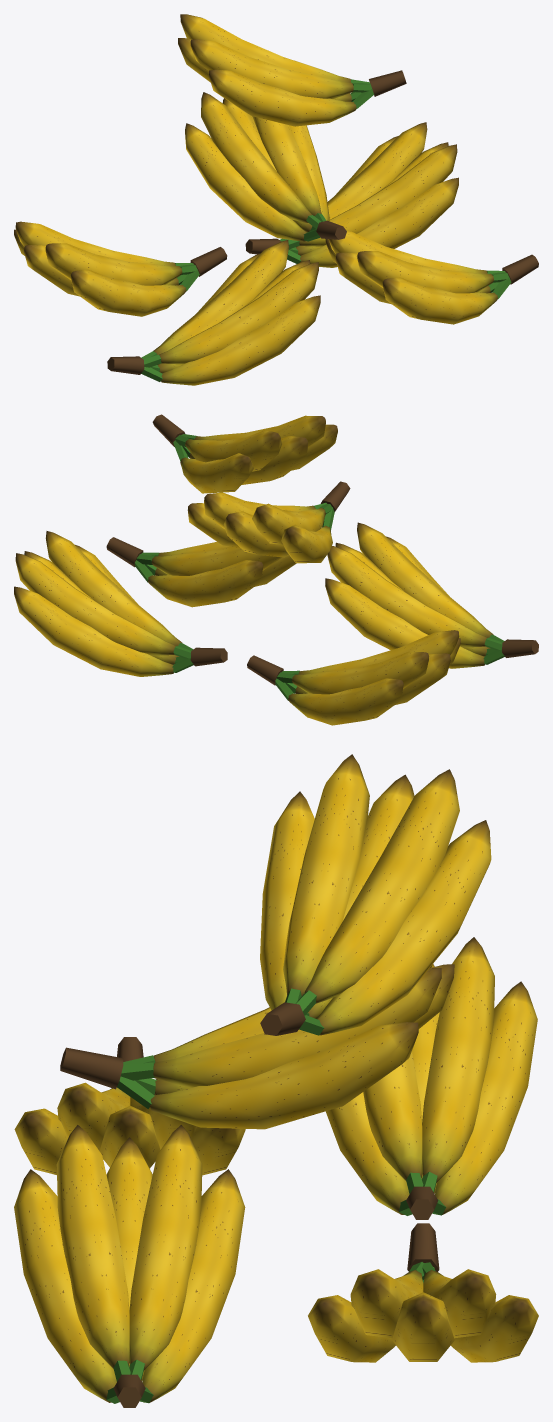
File: sk_produce_pile_banana.fbx
The picture shows the model from 3 angles, top to bottom: view 1: azimuth 30°, elevation 25°; view 2: azimuth 150°, elevation 25°; view 3: azimuth 270°, elevation 25°; orthographic projection. The views are drawn at different scales.
Visible parts, largest first — view 1: sk_produce_pile_banana; view 2: sk_produce_pile_banana; view 3: sk_produce_pile_banana.
Part boxes in pixels (x1,y1,x2,y2): sk_produce_pile_banana: [14, 14, 538, 385]; sk_produce_pile_banana: [14, 414, 538, 725]; sk_produce_pile_banana: [14, 754, 538, 1407].
Bounding box in the file's own units: 0.417 × 0.2531 × 0.2605.
1 material, 1 textured.
